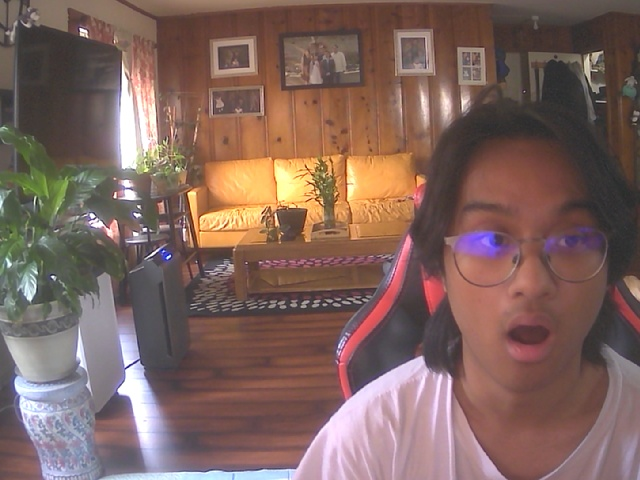fear: (435, 109, 623, 396)
